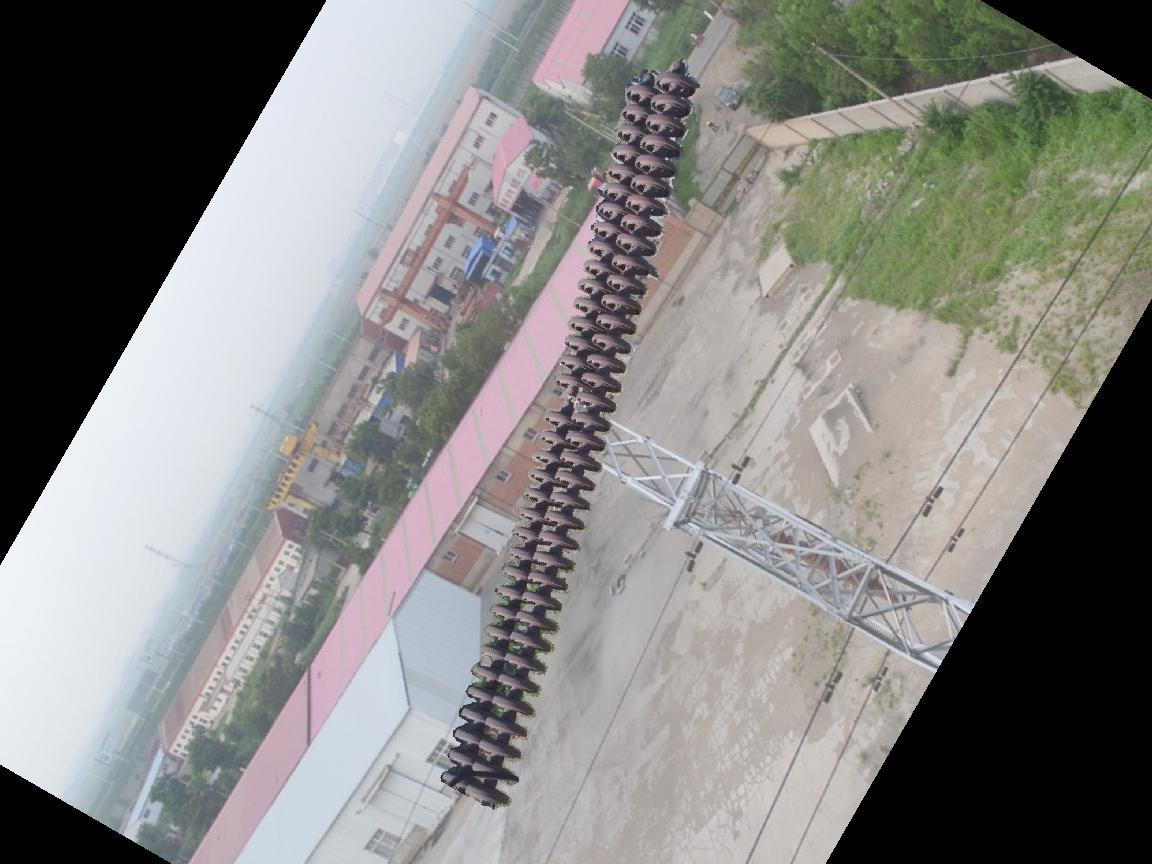insulator: (438, 65, 705, 818)
insulator_stringdrop: (540, 370, 585, 432)
